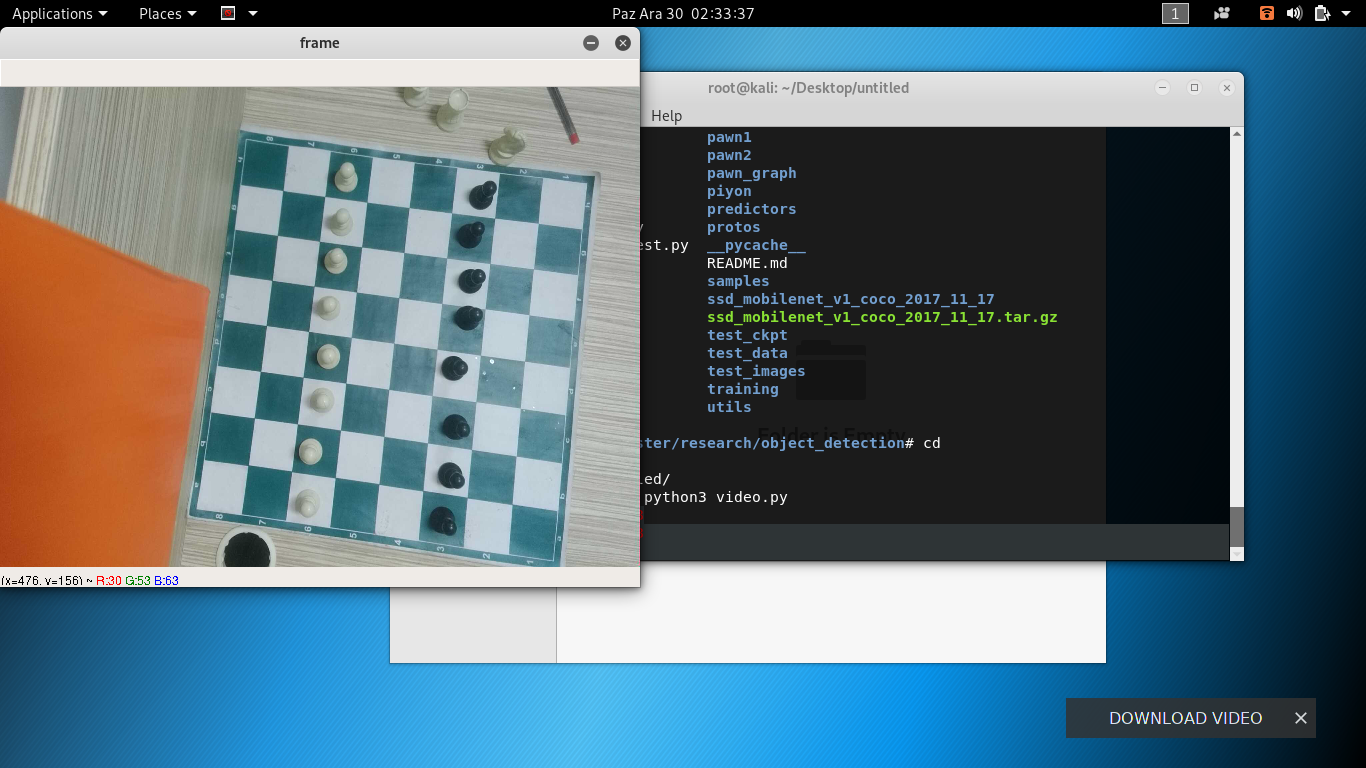BeyazPiyon: (331, 159, 361, 193), (295, 486, 322, 518), (295, 438, 325, 466), (329, 208, 357, 236), (310, 386, 337, 412), (315, 342, 341, 369), (324, 247, 349, 274), (316, 294, 341, 320)
SiyahPiyon: (440, 410, 472, 442), (467, 178, 498, 209), (430, 505, 459, 538), (437, 462, 467, 490), (456, 302, 484, 331), (460, 267, 487, 296), (457, 219, 484, 247), (442, 354, 470, 381)
